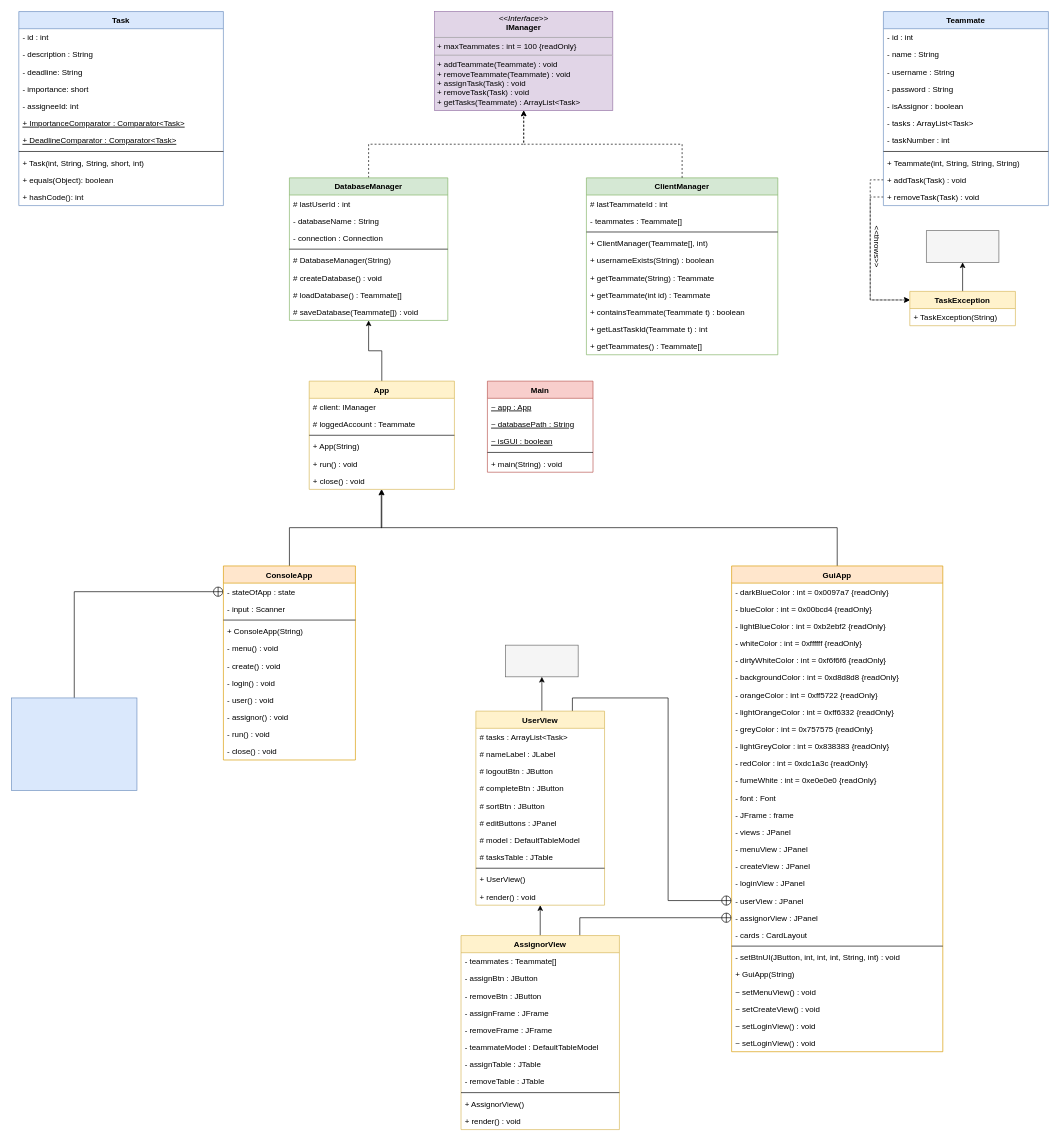
Some shapes in this 1060 by 1143 pixel diagram are drawn without their labels. Here are the shapes that lost their labels. From the top down, the box of each, then its label:
(926, 230, 999, 262): Exception
(505, 644, 578, 677): JPanel
(11, 697, 137, 790): <<enumeration>> state Menu Create Login User Assignor Close
